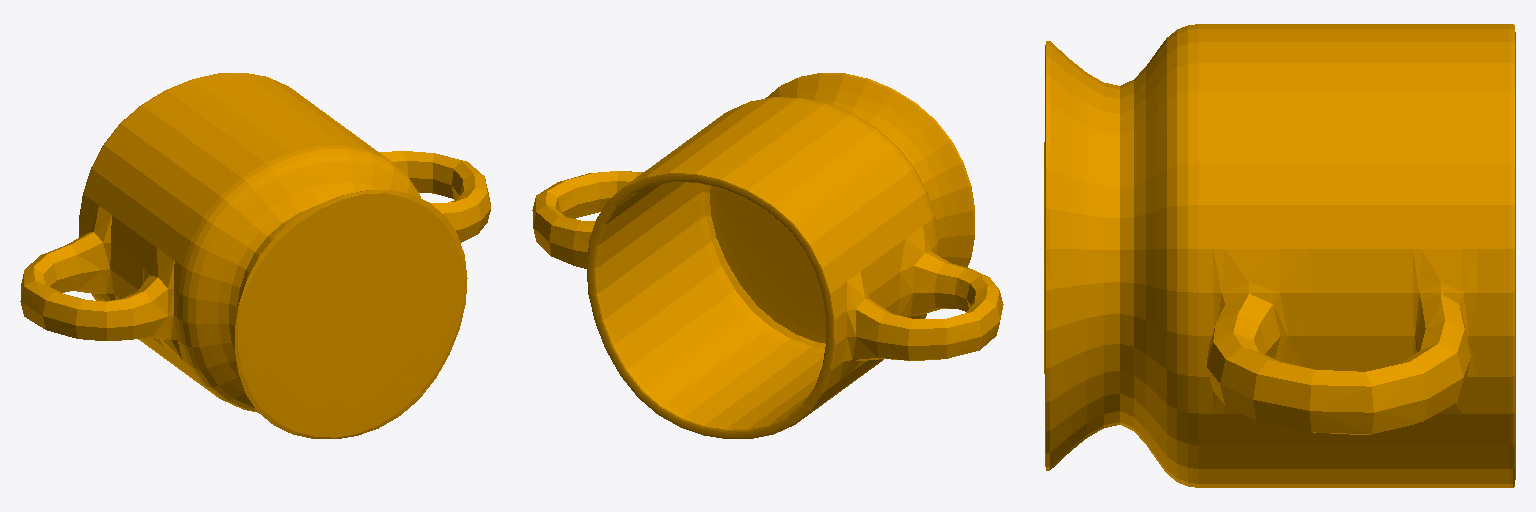
robot.urdf — 126:
<?xml version="1.0" ?>
<robot name="126">
  <link name="body">
    <visual>
      <geometry>
        <mesh filename="../shapes/126.obj"/>
      </geometry>
    </visual>
    <collision>
      <geometry>
        <mesh filename="../shapes/126.obj"/>
      </geometry>
    </collision>
  </link>
</robot>

--- Render facts (derived) ---
3 views of the same robot in one strip: view 1: azimuth 30°, elevation 25°; view 2: azimuth 150°, elevation 25°; view 3: azimuth 270°, elevation 25° (orthographic).
Robot: 126 — 1 links, 0 joints (none); root link body; default pose: every joint at zero.
Links seen in each view (by area): view 1: body; view 2: body; view 3: body.
Link boxes in pixels (x1,y1,x2,y2): body: (20, 73, 490, 438); body: (532, 73, 1003, 438); body: (1044, 24, 1515, 487).
Bounding box of the posed robot: 4.36 × 2.51 × 2.42 m (x, y, z).
1 mesh visuals loaded from 1 distinct referenced files (1 OBJ).